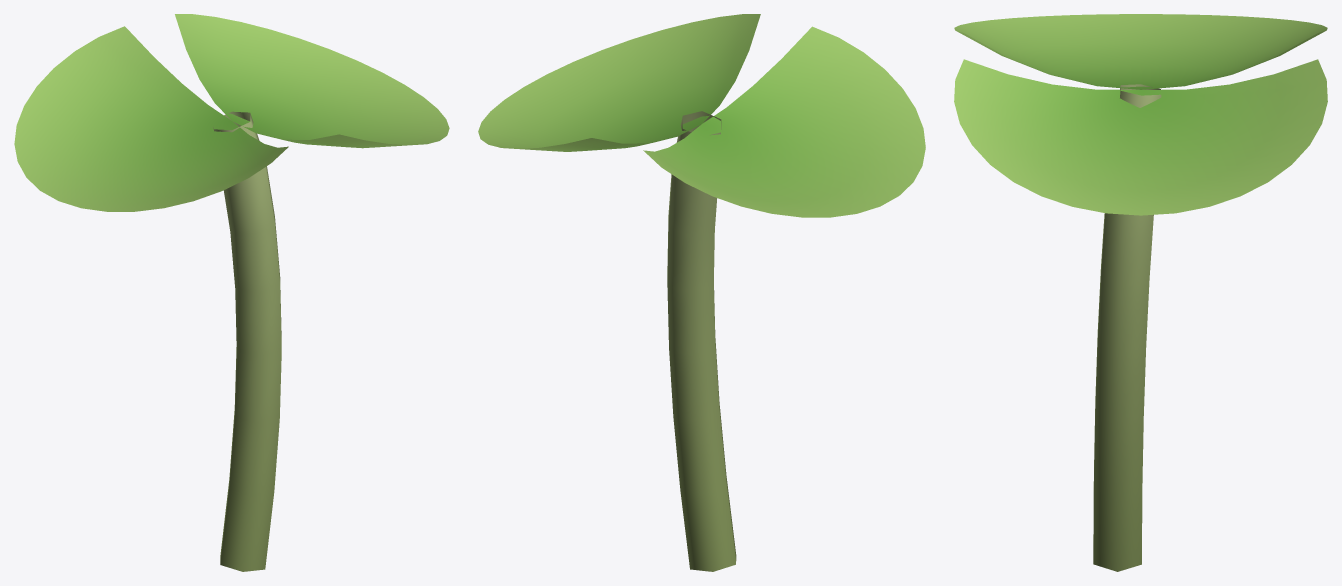
The model's file is Sprout.fbx.
3 views of the same model, side by side, from view 1: azimuth 30°, elevation 25°; view 2: azimuth 150°, elevation 25°; view 3: azimuth 270°, elevation 25° (orthographic). The views are drawn at different scales.
Parts seen in each view (by area): view 1: Sprout; view 2: Sprout; view 3: Sprout.
Part boxes in pixels (<box>): Sprout: <box>14,14,449,571</box>; Sprout: <box>478,14,925,571</box>; Sprout: <box>954,14,1327,571</box>.
Bounding box in the file's own units: 1.02 × 1.21 × 0.8006.
